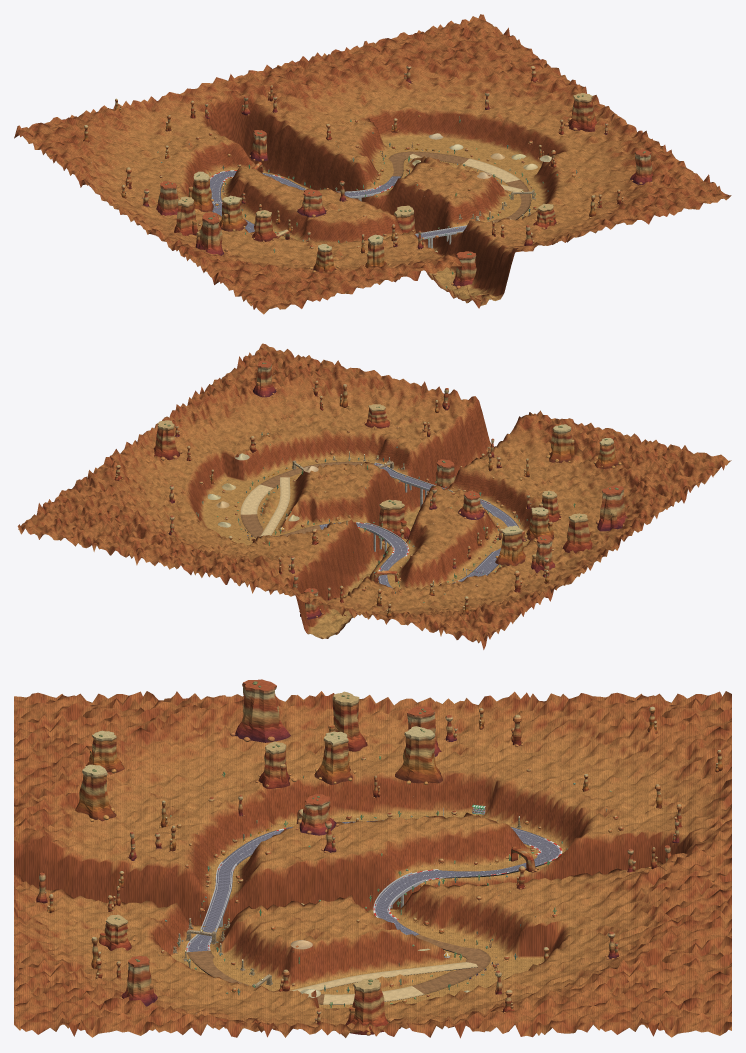
Rendered from canion-solar.glb.
3 renders of one model, top to bottom at view 1: azimuth 30°, elevation 25°; view 2: azimuth 150°, elevation 25°; view 3: azimuth 270°, elevation 25°, orthographic. The views are drawn at different scales.
Parts seen in each view (by area): view 1: terrain10, terrain2, terrain3, terrain1, terrain4, terrain9, terrain0, terrain8, terrain16, terrain24, terrain22, sec1_props (+29 smaller); view 2: terrain22, terrain28, terrain27, terrain16, terrain26, terrain24, terrain21, terrain4, terrain8, terrain15, sec1_props, terrain25 (+30 smaller); view 3: terrain6, terrain1, terrain0, terrain7, terrain15, terrain18, terrain19, terrain9, terrain26, terrain3, terrain14, terrain24 (+35 smaller).
Boxes of the visible parts, <box> form: terrain10: <box>411,60,547,154</box>; terrain2: <box>187,65,323,173</box>; terrain3: <box>277,45,410,116</box>; terrain1: <box>101,88,229,161</box>; terrain4: <box>363,24,496,95</box>; terrain9: <box>324,95,460,171</box>; terrain0: <box>14,108,150,170</box>; terrain8: <box>244,116,366,191</box>; terrain16: <box>461,107,597,186</box>; terrain24: <box>214,263,348,314</box>; terrain22: <box>517,147,636,208</box>; sec1_props: <box>174,189,327,255</box>; terrain22: <box>201,391,336,479</box>; terrain28: <box>251,355,384,426</box>; terrain27: <box>338,375,471,451</box>; terrain16: <box>151,439,279,519</box>; terrain26: <box>424,396,555,485</box>; terrain24: <box>598,439,731,503</box>; terrain21: <box>290,426,423,501</box>; terrain4: <box>52,498,186,565</box>; terrain8: <box>276,522,409,621</box>; terrain15: <box>237,467,373,531</box>; sec1_props: <box>458,485,627,553</box>; terrain25: <box>511,418,644,486</box>; terrain6: <box>442,691,587,799</box>; terrain1: <box>587,755,731,869</box>; terrain0: <box>587,691,731,780</box>; terrain7: <box>442,777,587,867</box>; terrain15: <box>297,899,442,992</box>; terrain18: <box>152,691,297,781</box>; terrain19: <box>152,773,297,865</box>; terrain9: <box>442,898,587,992</box>; terrain26: <box>14,815,152,903</box>; terrain3: <box>587,875,731,958</box>; terrain14: <box>297,838,442,926</box>; terrain24: <box>14,691,152,773</box>.
Size of the model in its own units: 650 by 118 by 595.
Materials: 24 (17 with a texture image).
